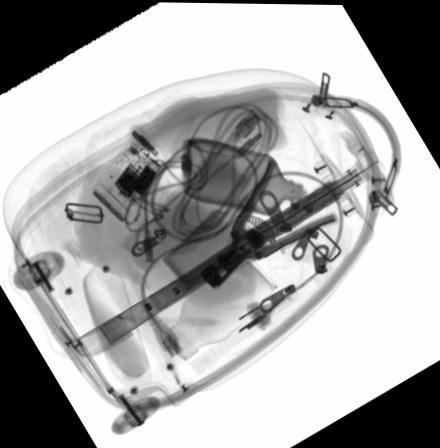Pliers: (198, 157, 337, 289)
